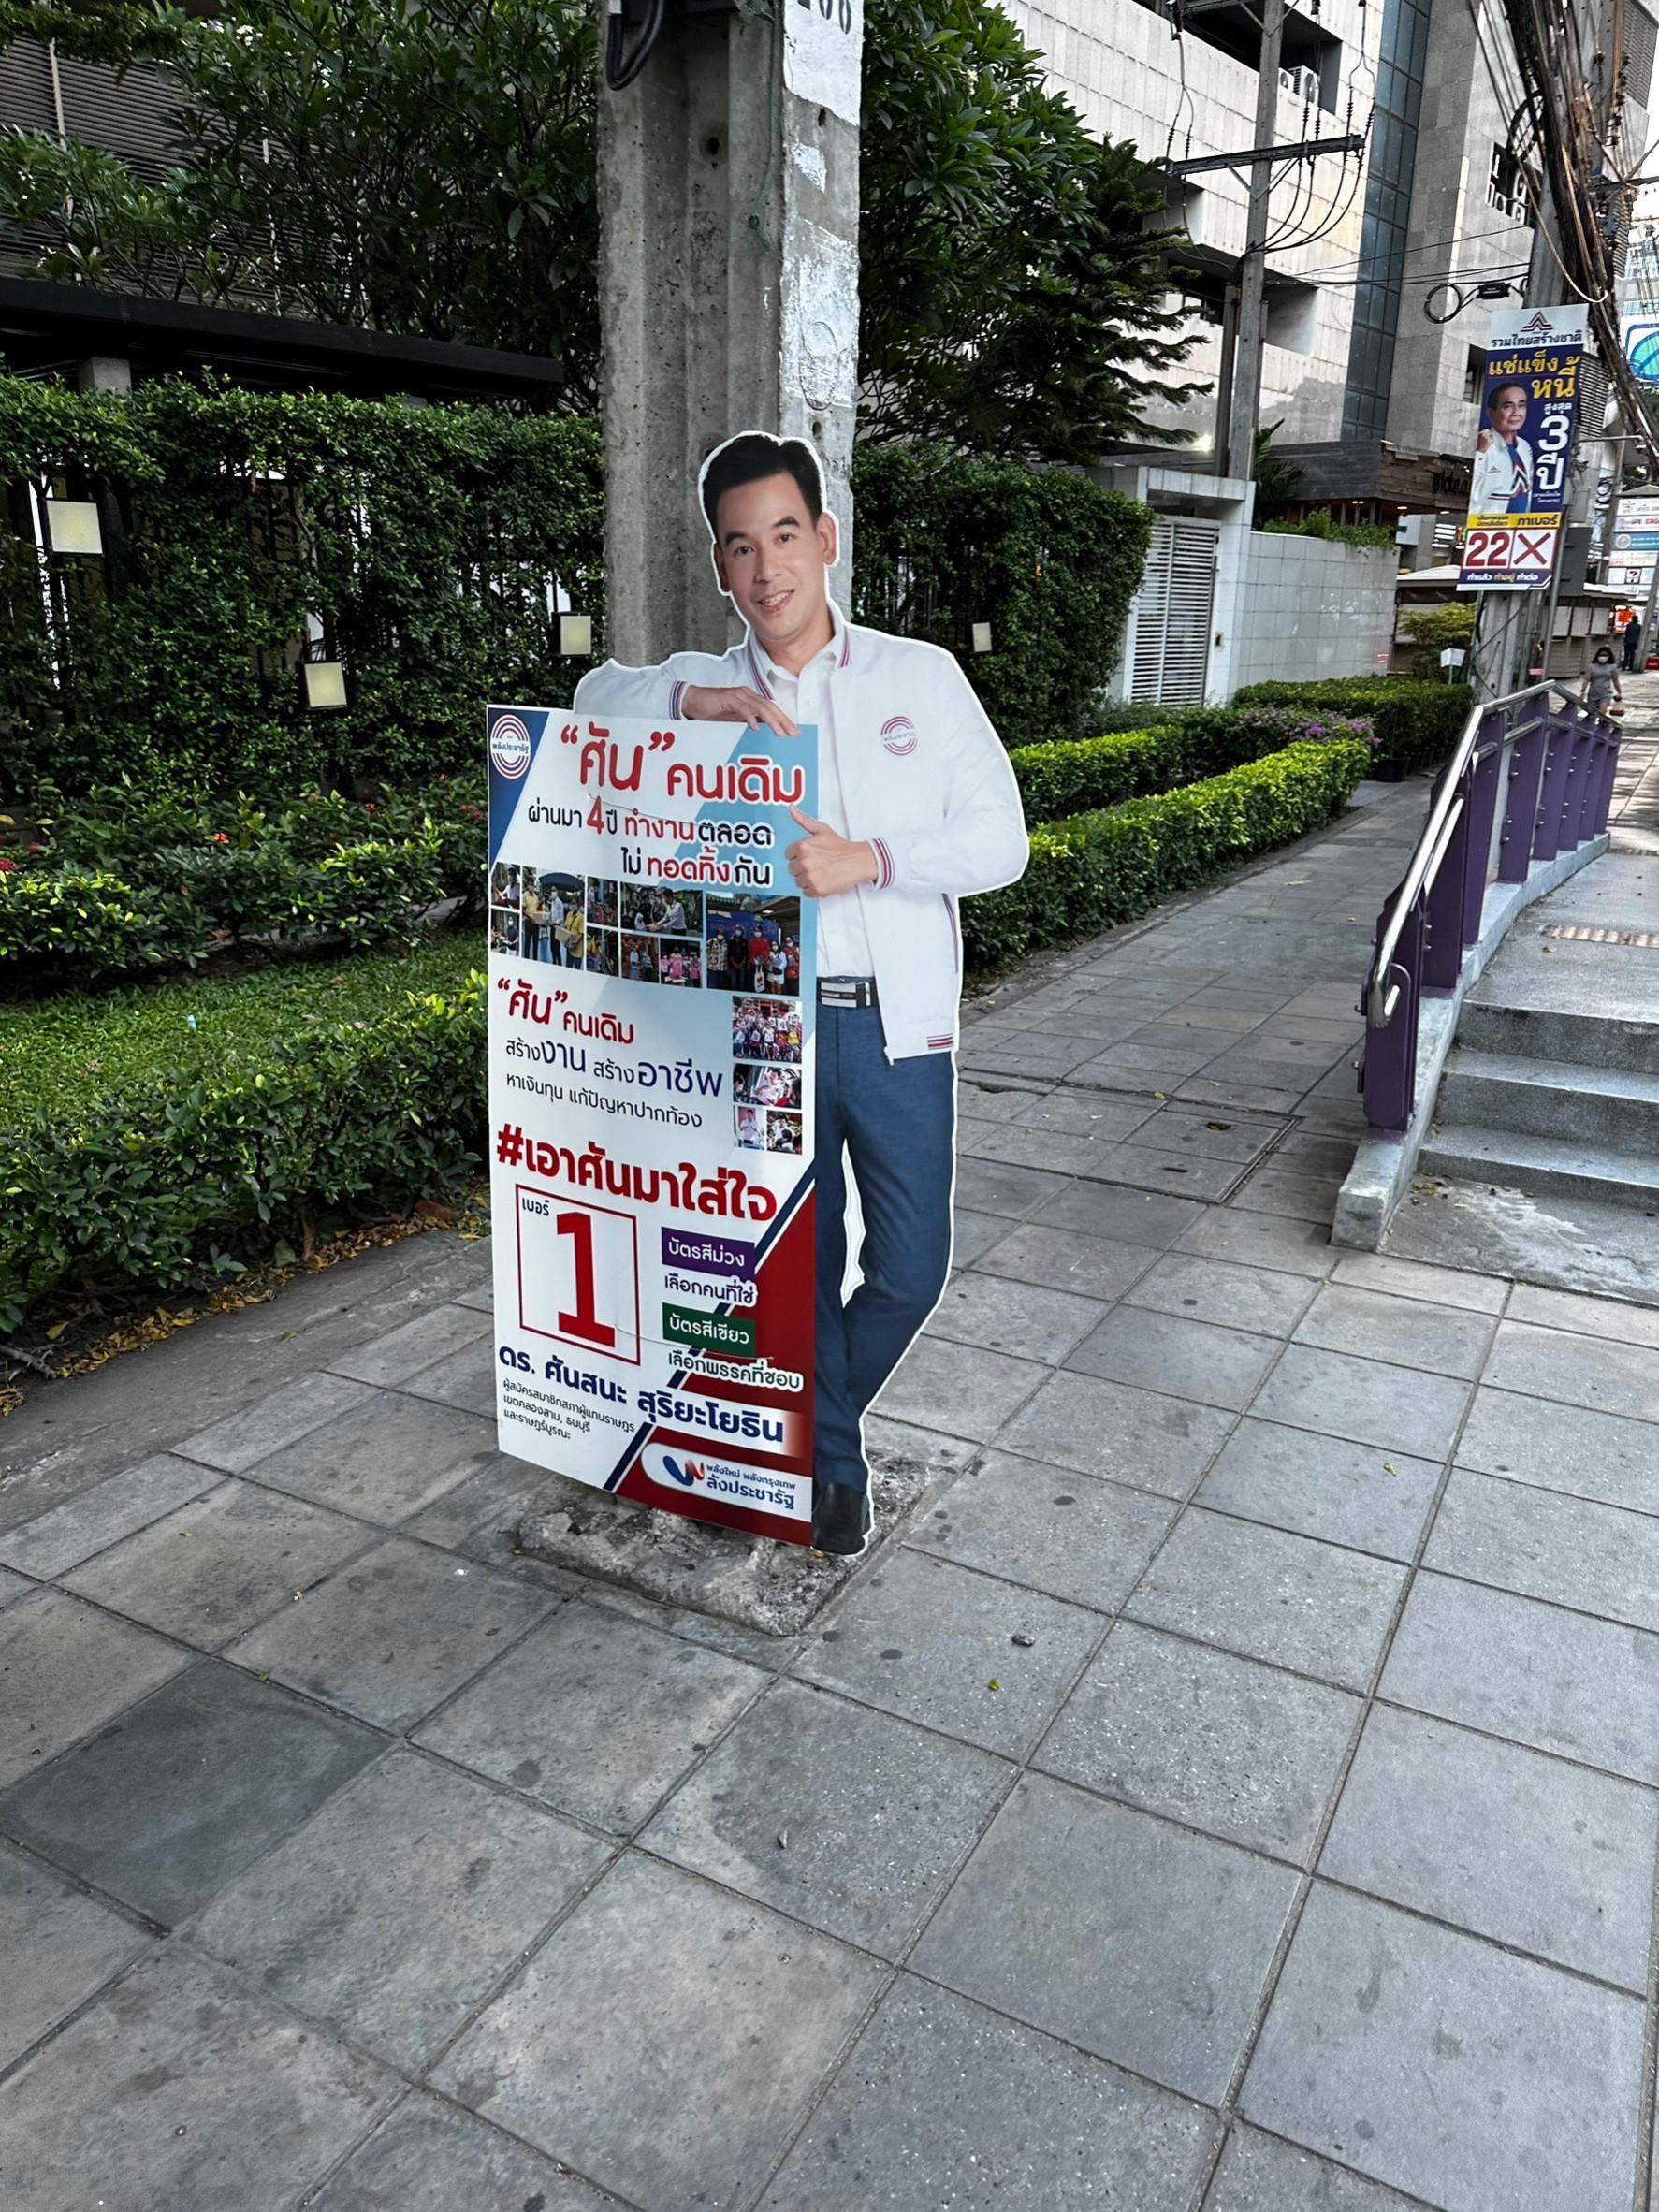Banner: (481, 705, 821, 1555)
